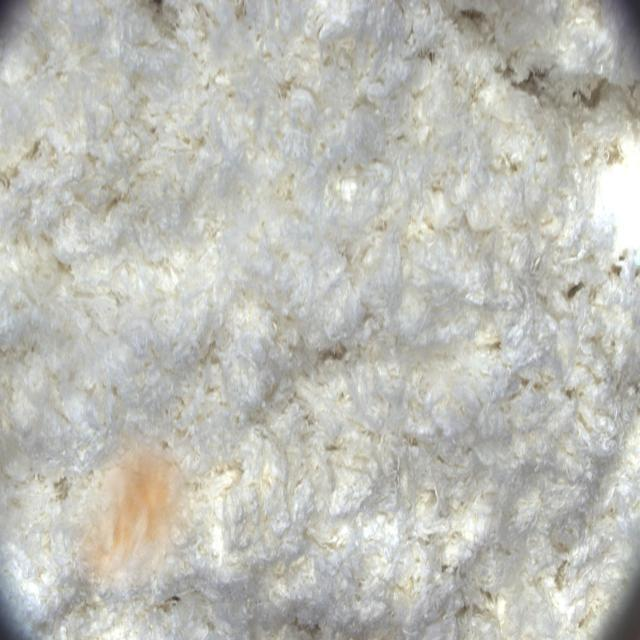dust: (67, 429, 203, 590)
